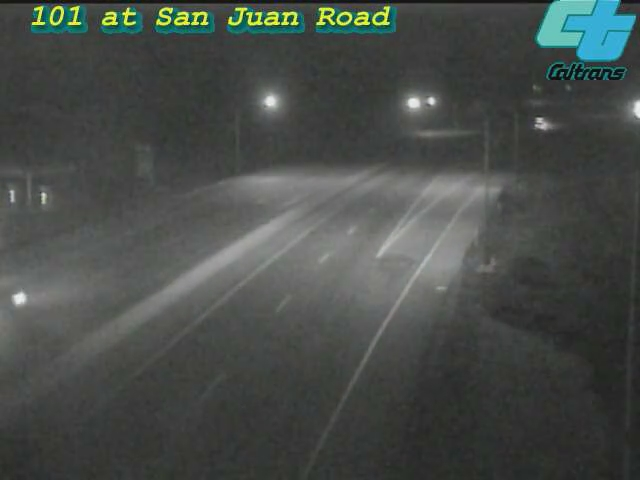vehicle: (1, 261, 49, 341), (522, 98, 572, 148)
